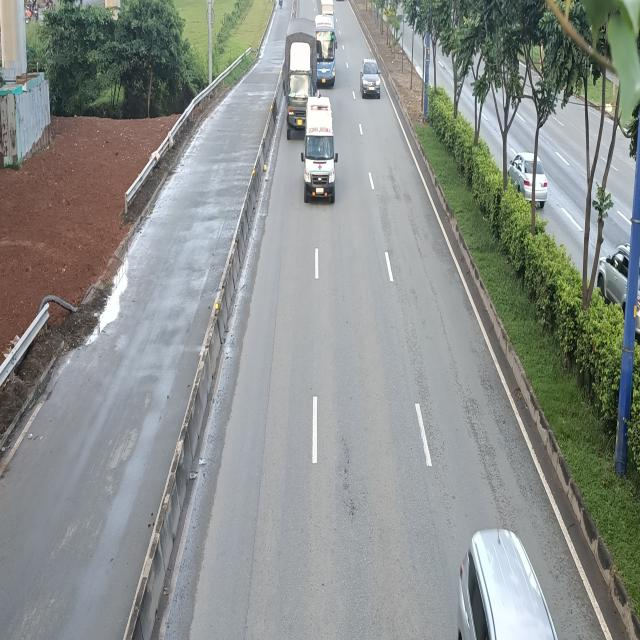car: (359, 57, 381, 98)
coach: (313, 12, 337, 88)
van: (302, 94, 340, 200)
